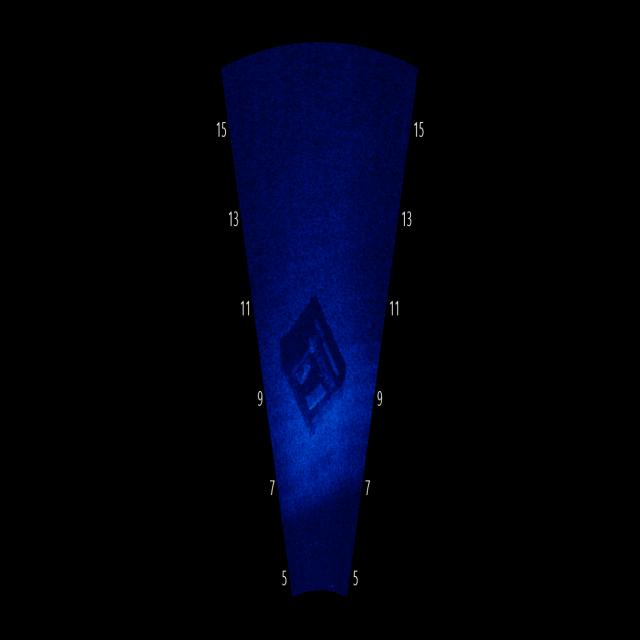square: (271, 296, 358, 440)
